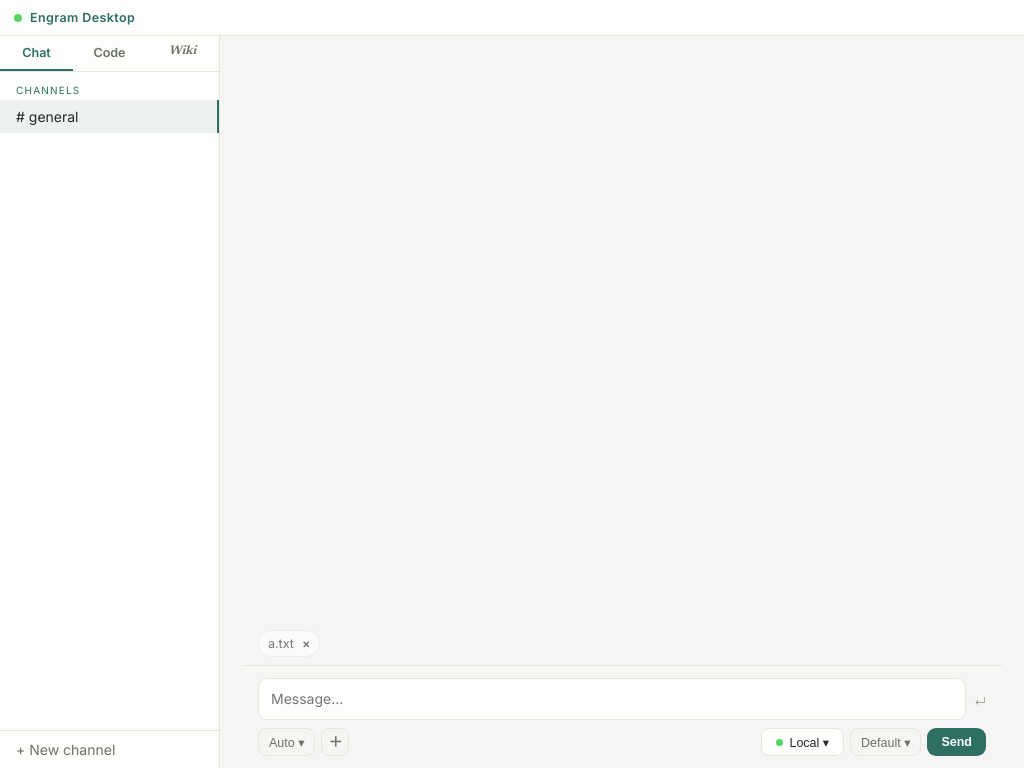
Test: X 클릭으로 칩을 제거한다
Expected: the text "# general" is shown, [16,108,78,125]
Expected: the text "a.txt" is shown, [268,636,294,651]
Click the text "×": (306, 644) [302,636,310,651]
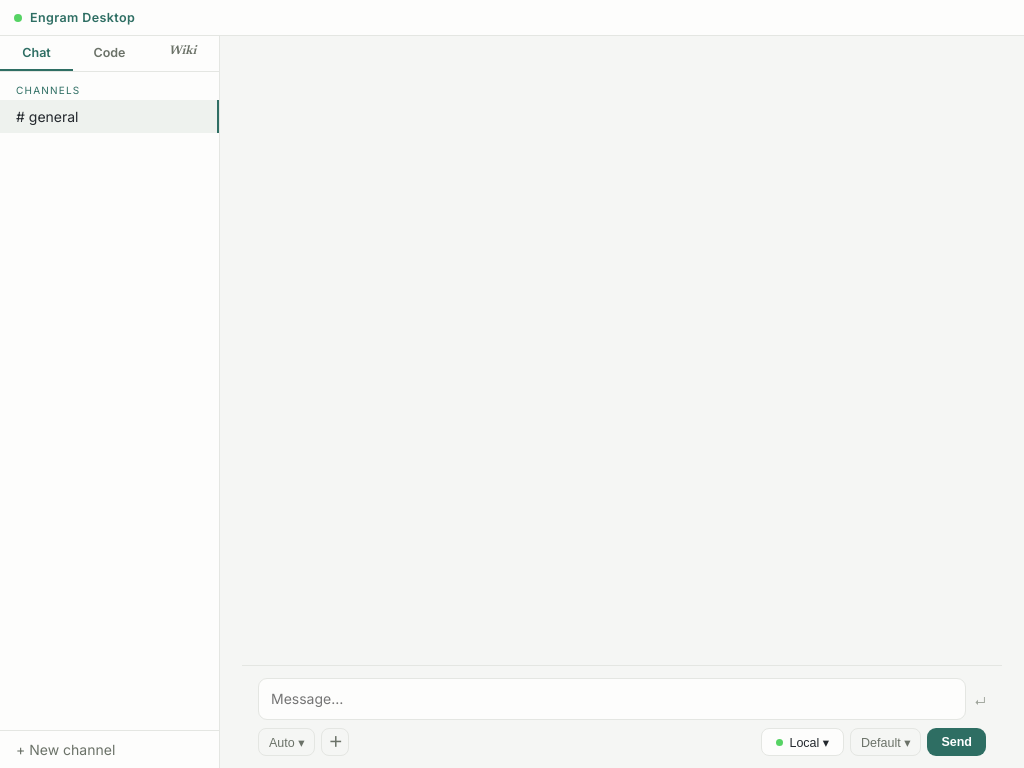
Expected: the text "a.txt" is gone
